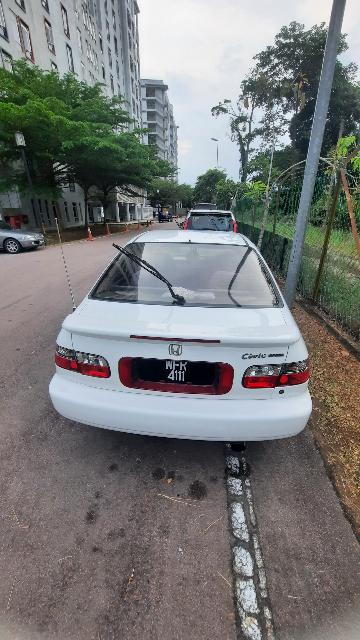License_Plate: (128, 356, 225, 397)
car: (43, 221, 315, 458)
